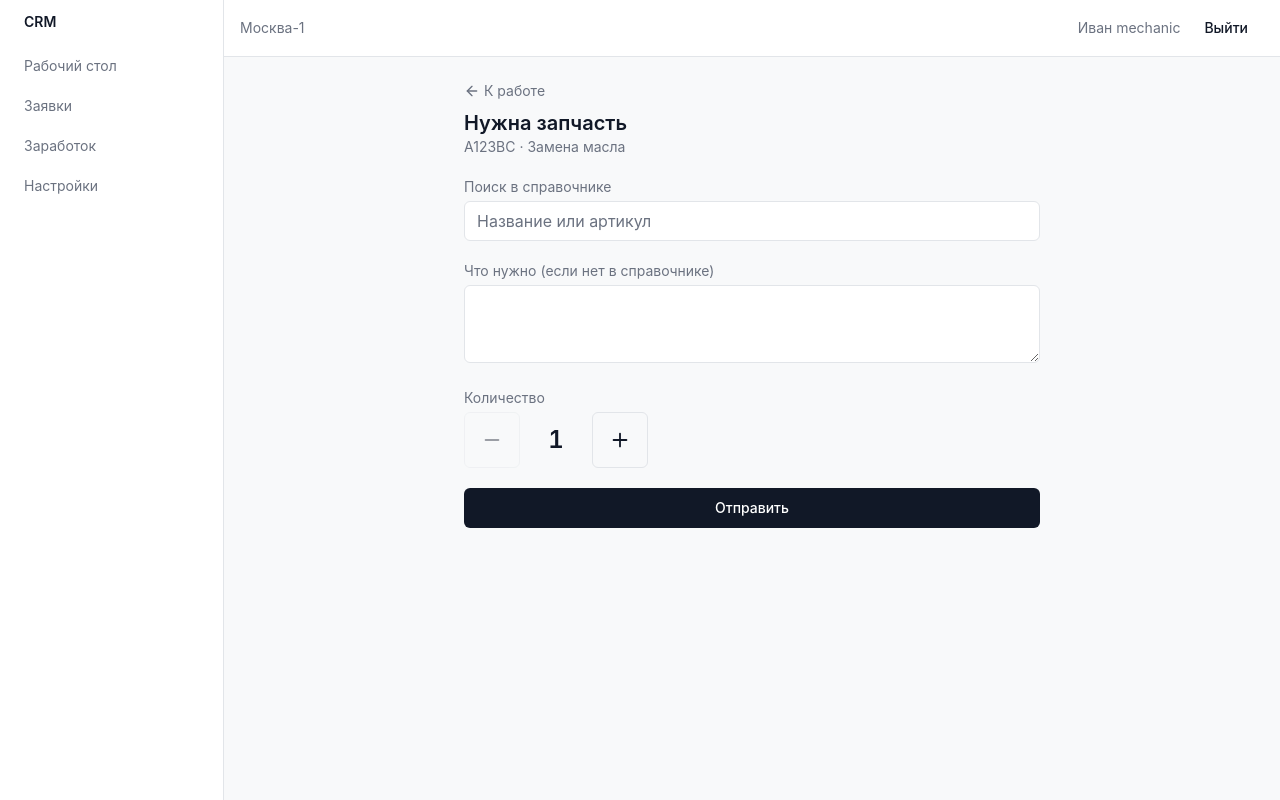
M-04 – M-06: заявки и рекомендации › заявка на запчасть: свободный текст и количество уходят строкой Qty3
This screenshot has width=1280, height=800.
Step 1. Type "Масляный фильтр" into the text box labelled "Что нужно (если нет в справочнике)" → [752, 324], box [464,285,1040,363]
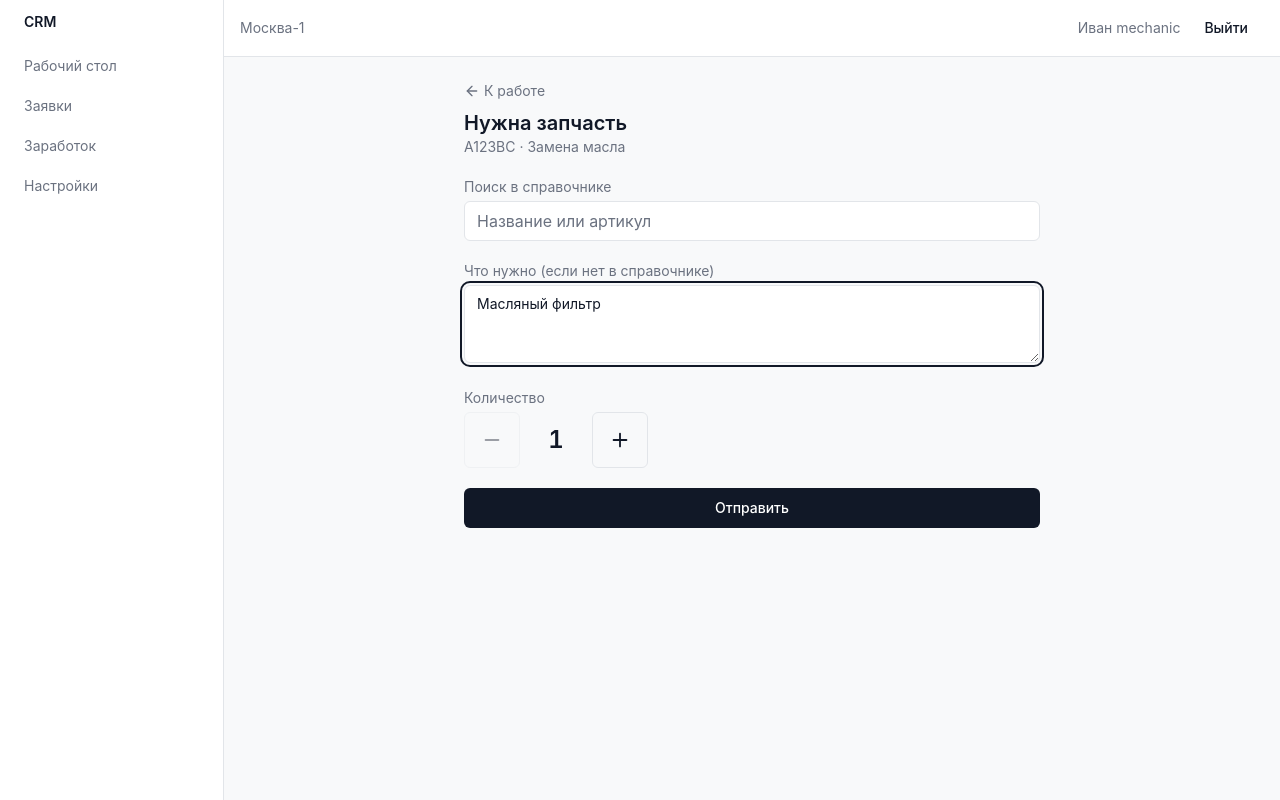
Step 2. Click the button named "Больше" → [620, 440], box [592,412,648,468]
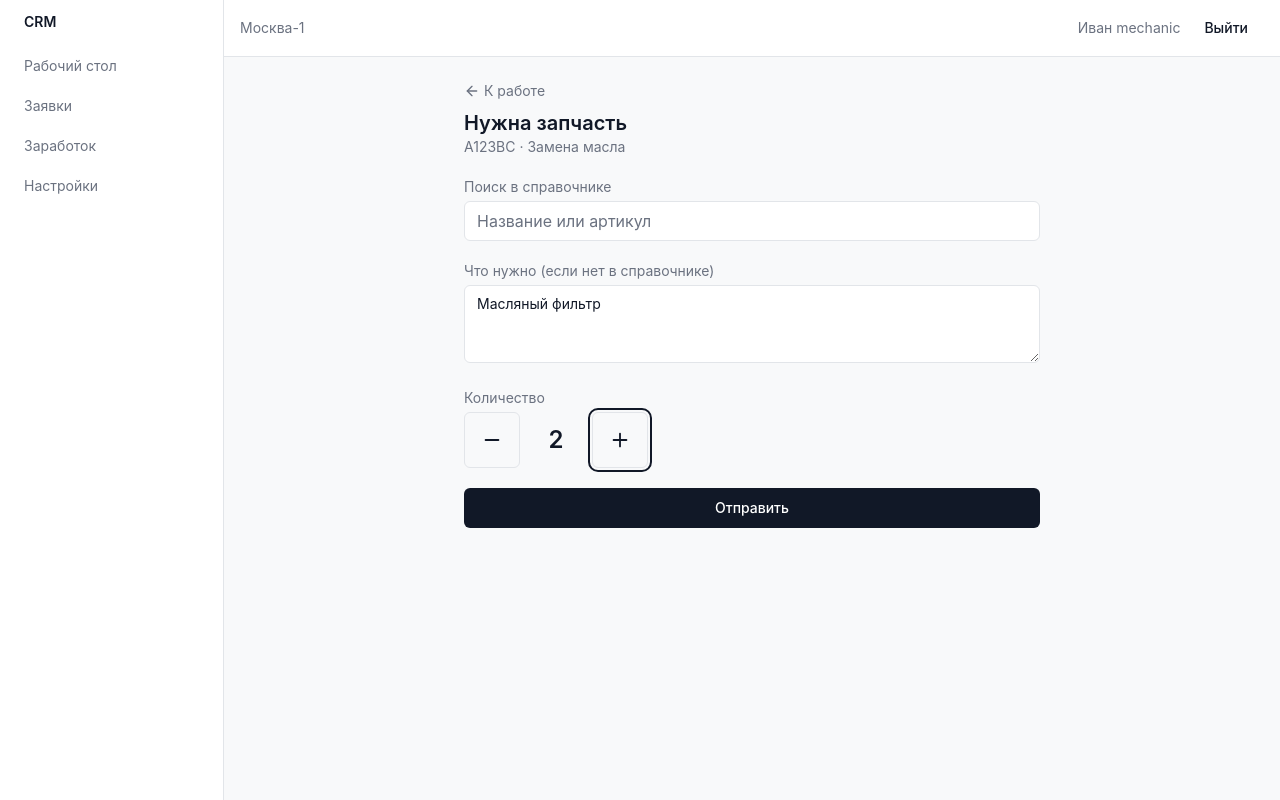
Step 3. Click the button "Отправить" → [752, 508], box [464,488,1040,528]
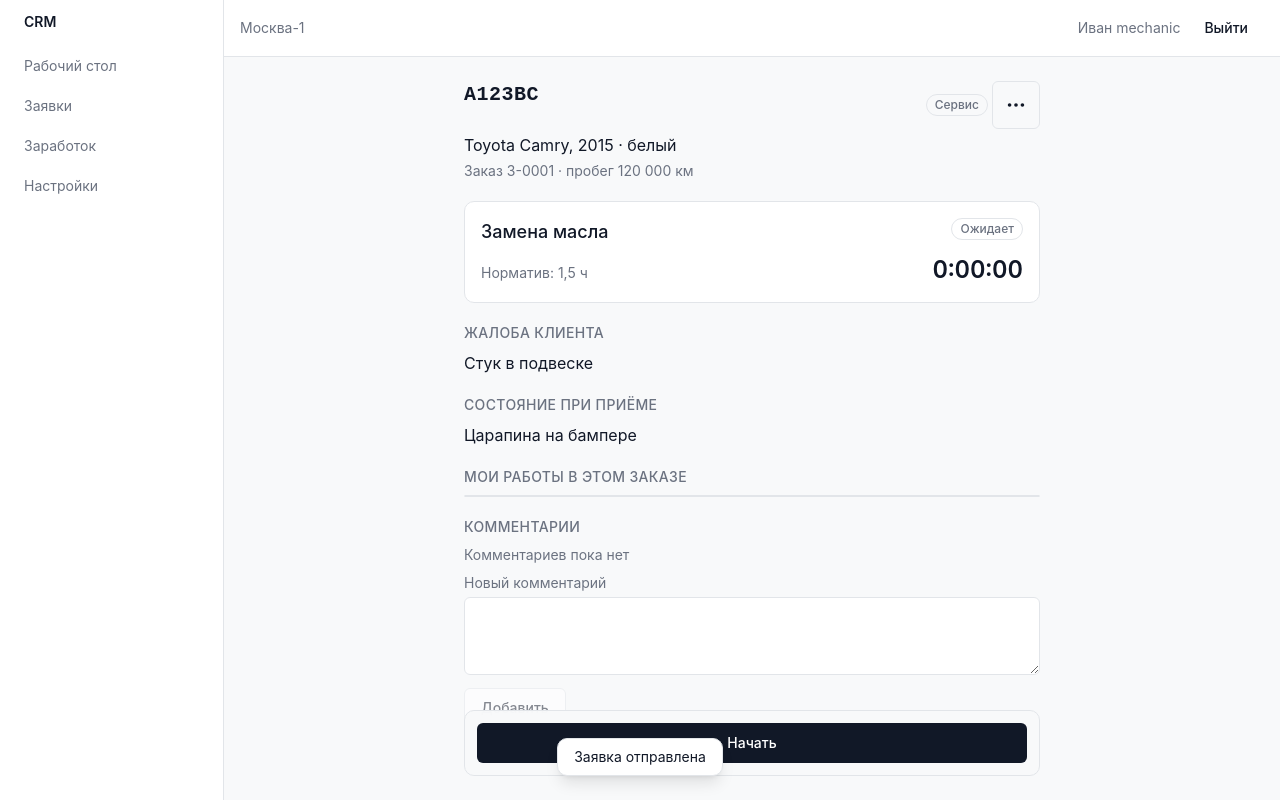
Result: the text "Заявка отправлена" is shown at [557,738,723,776]
